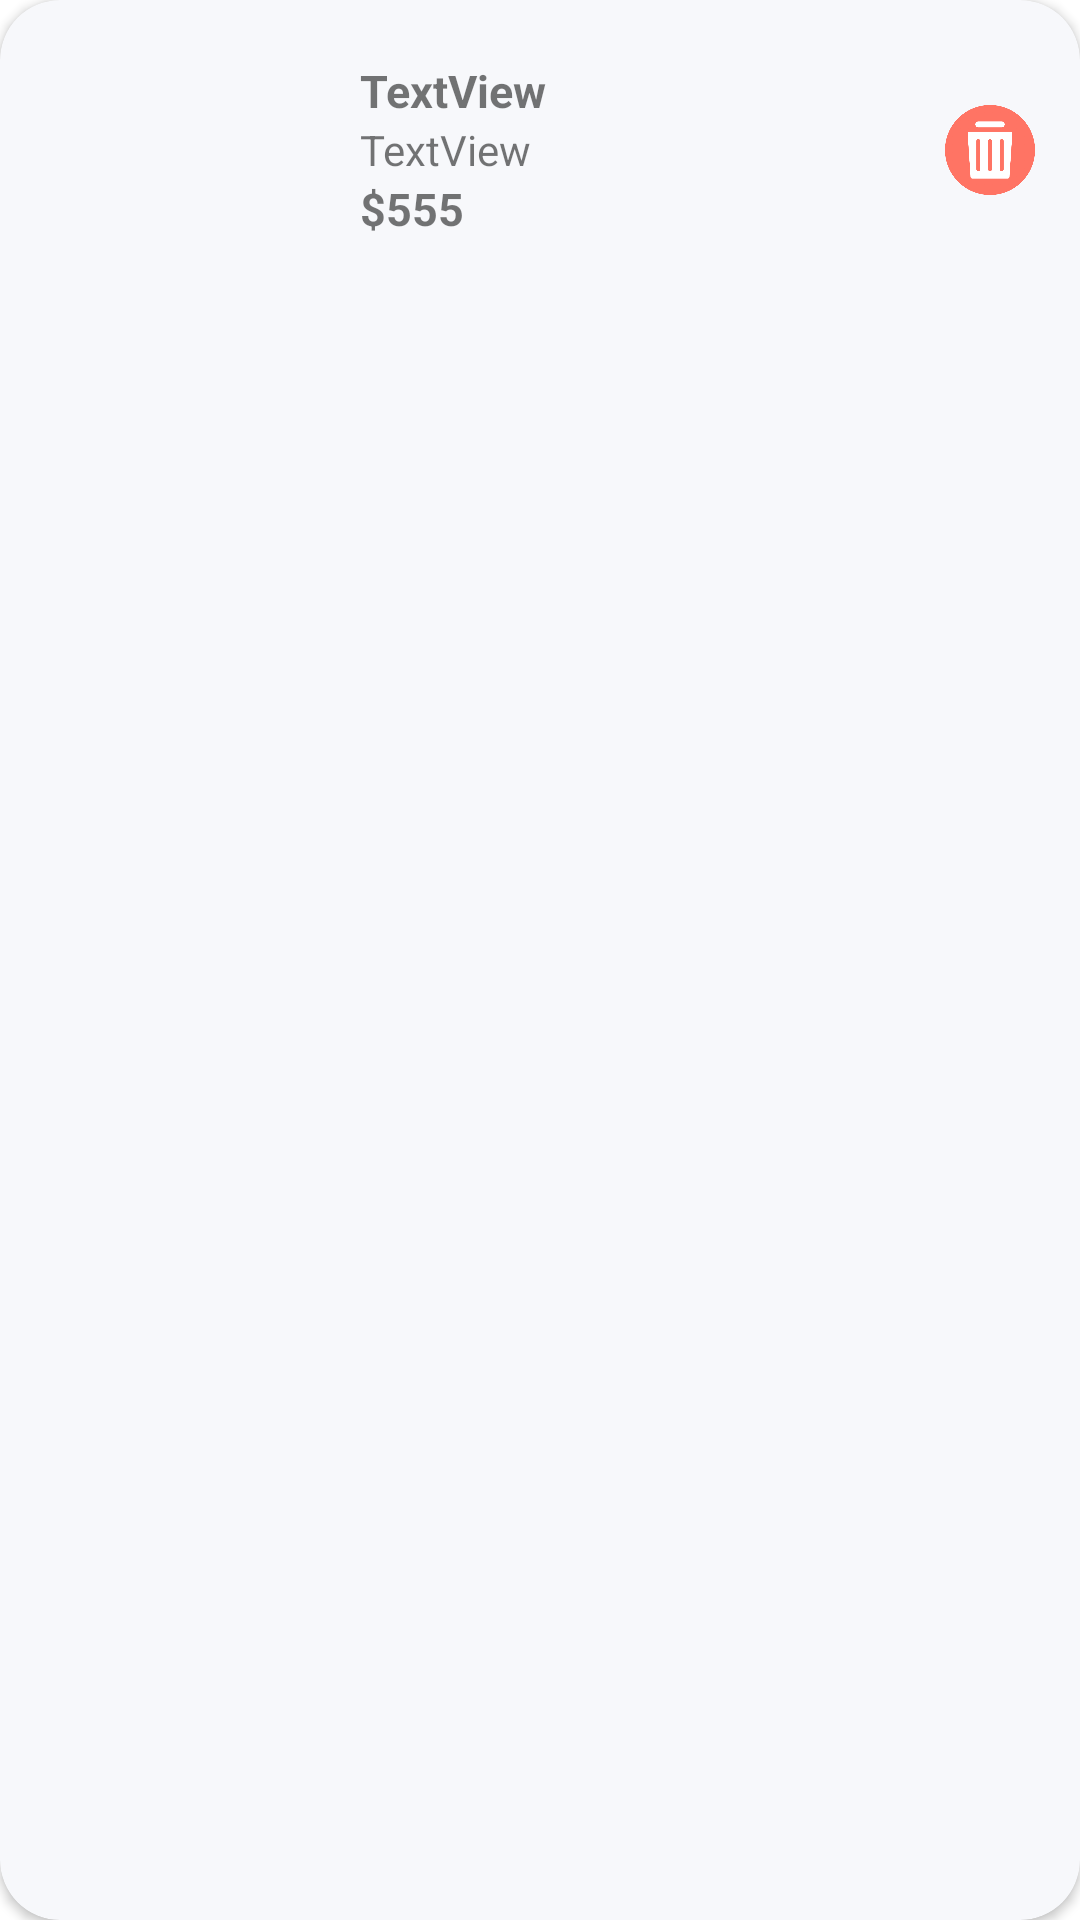

Icons on this 1080*1920 Android screen, each with its box as (x1=x1, y1=y1, x2=x2, y2=y2):
delete: (x1=945, y1=105, x2=1035, y2=195)
